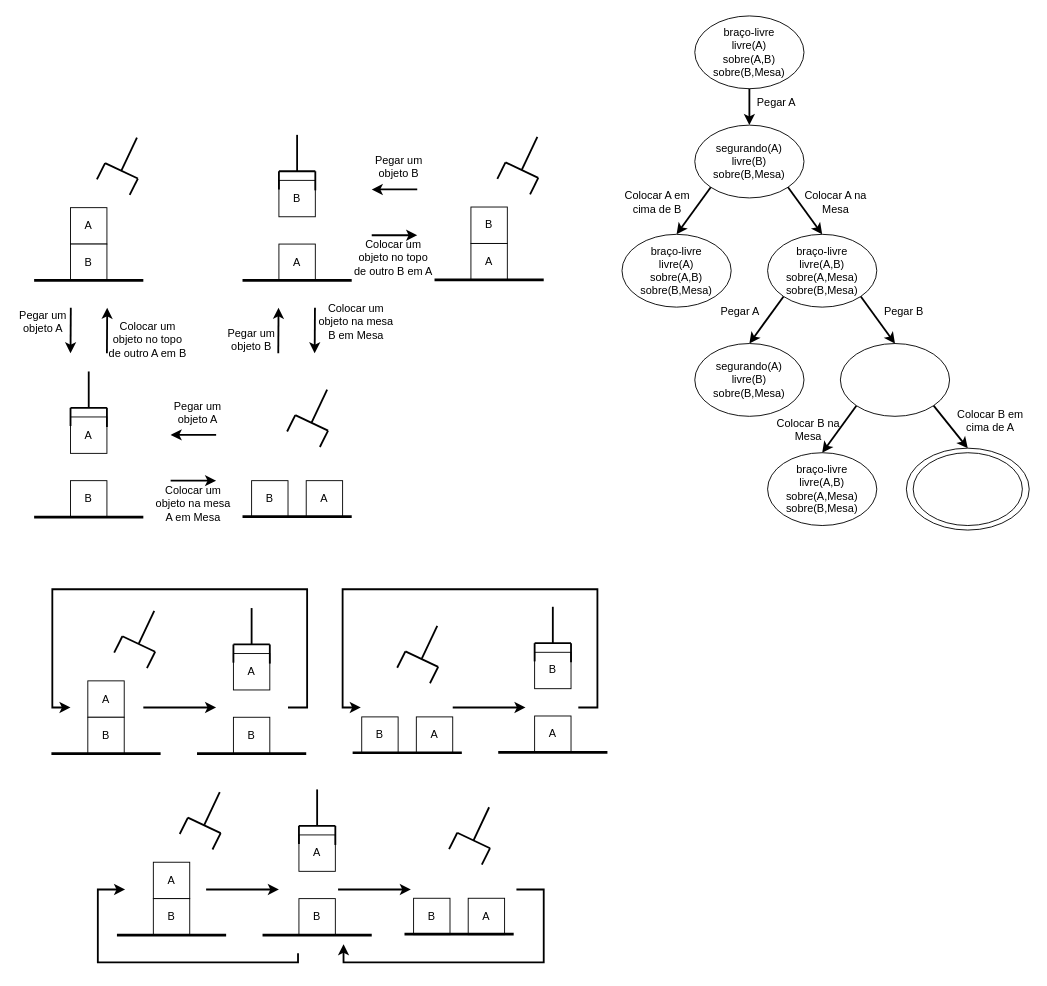
This 1047x986 diagram has some shape labels left out. Here are the shapes that lost their labels. From the top down, the box of each, then its label:
(839, 343, 950, 416): segurando(B) livre(A) sobre(A,Mesa)
(912, 452, 1022, 526): braço-livre livre(B) sobre(B,A) sobre(A,Mesa)
